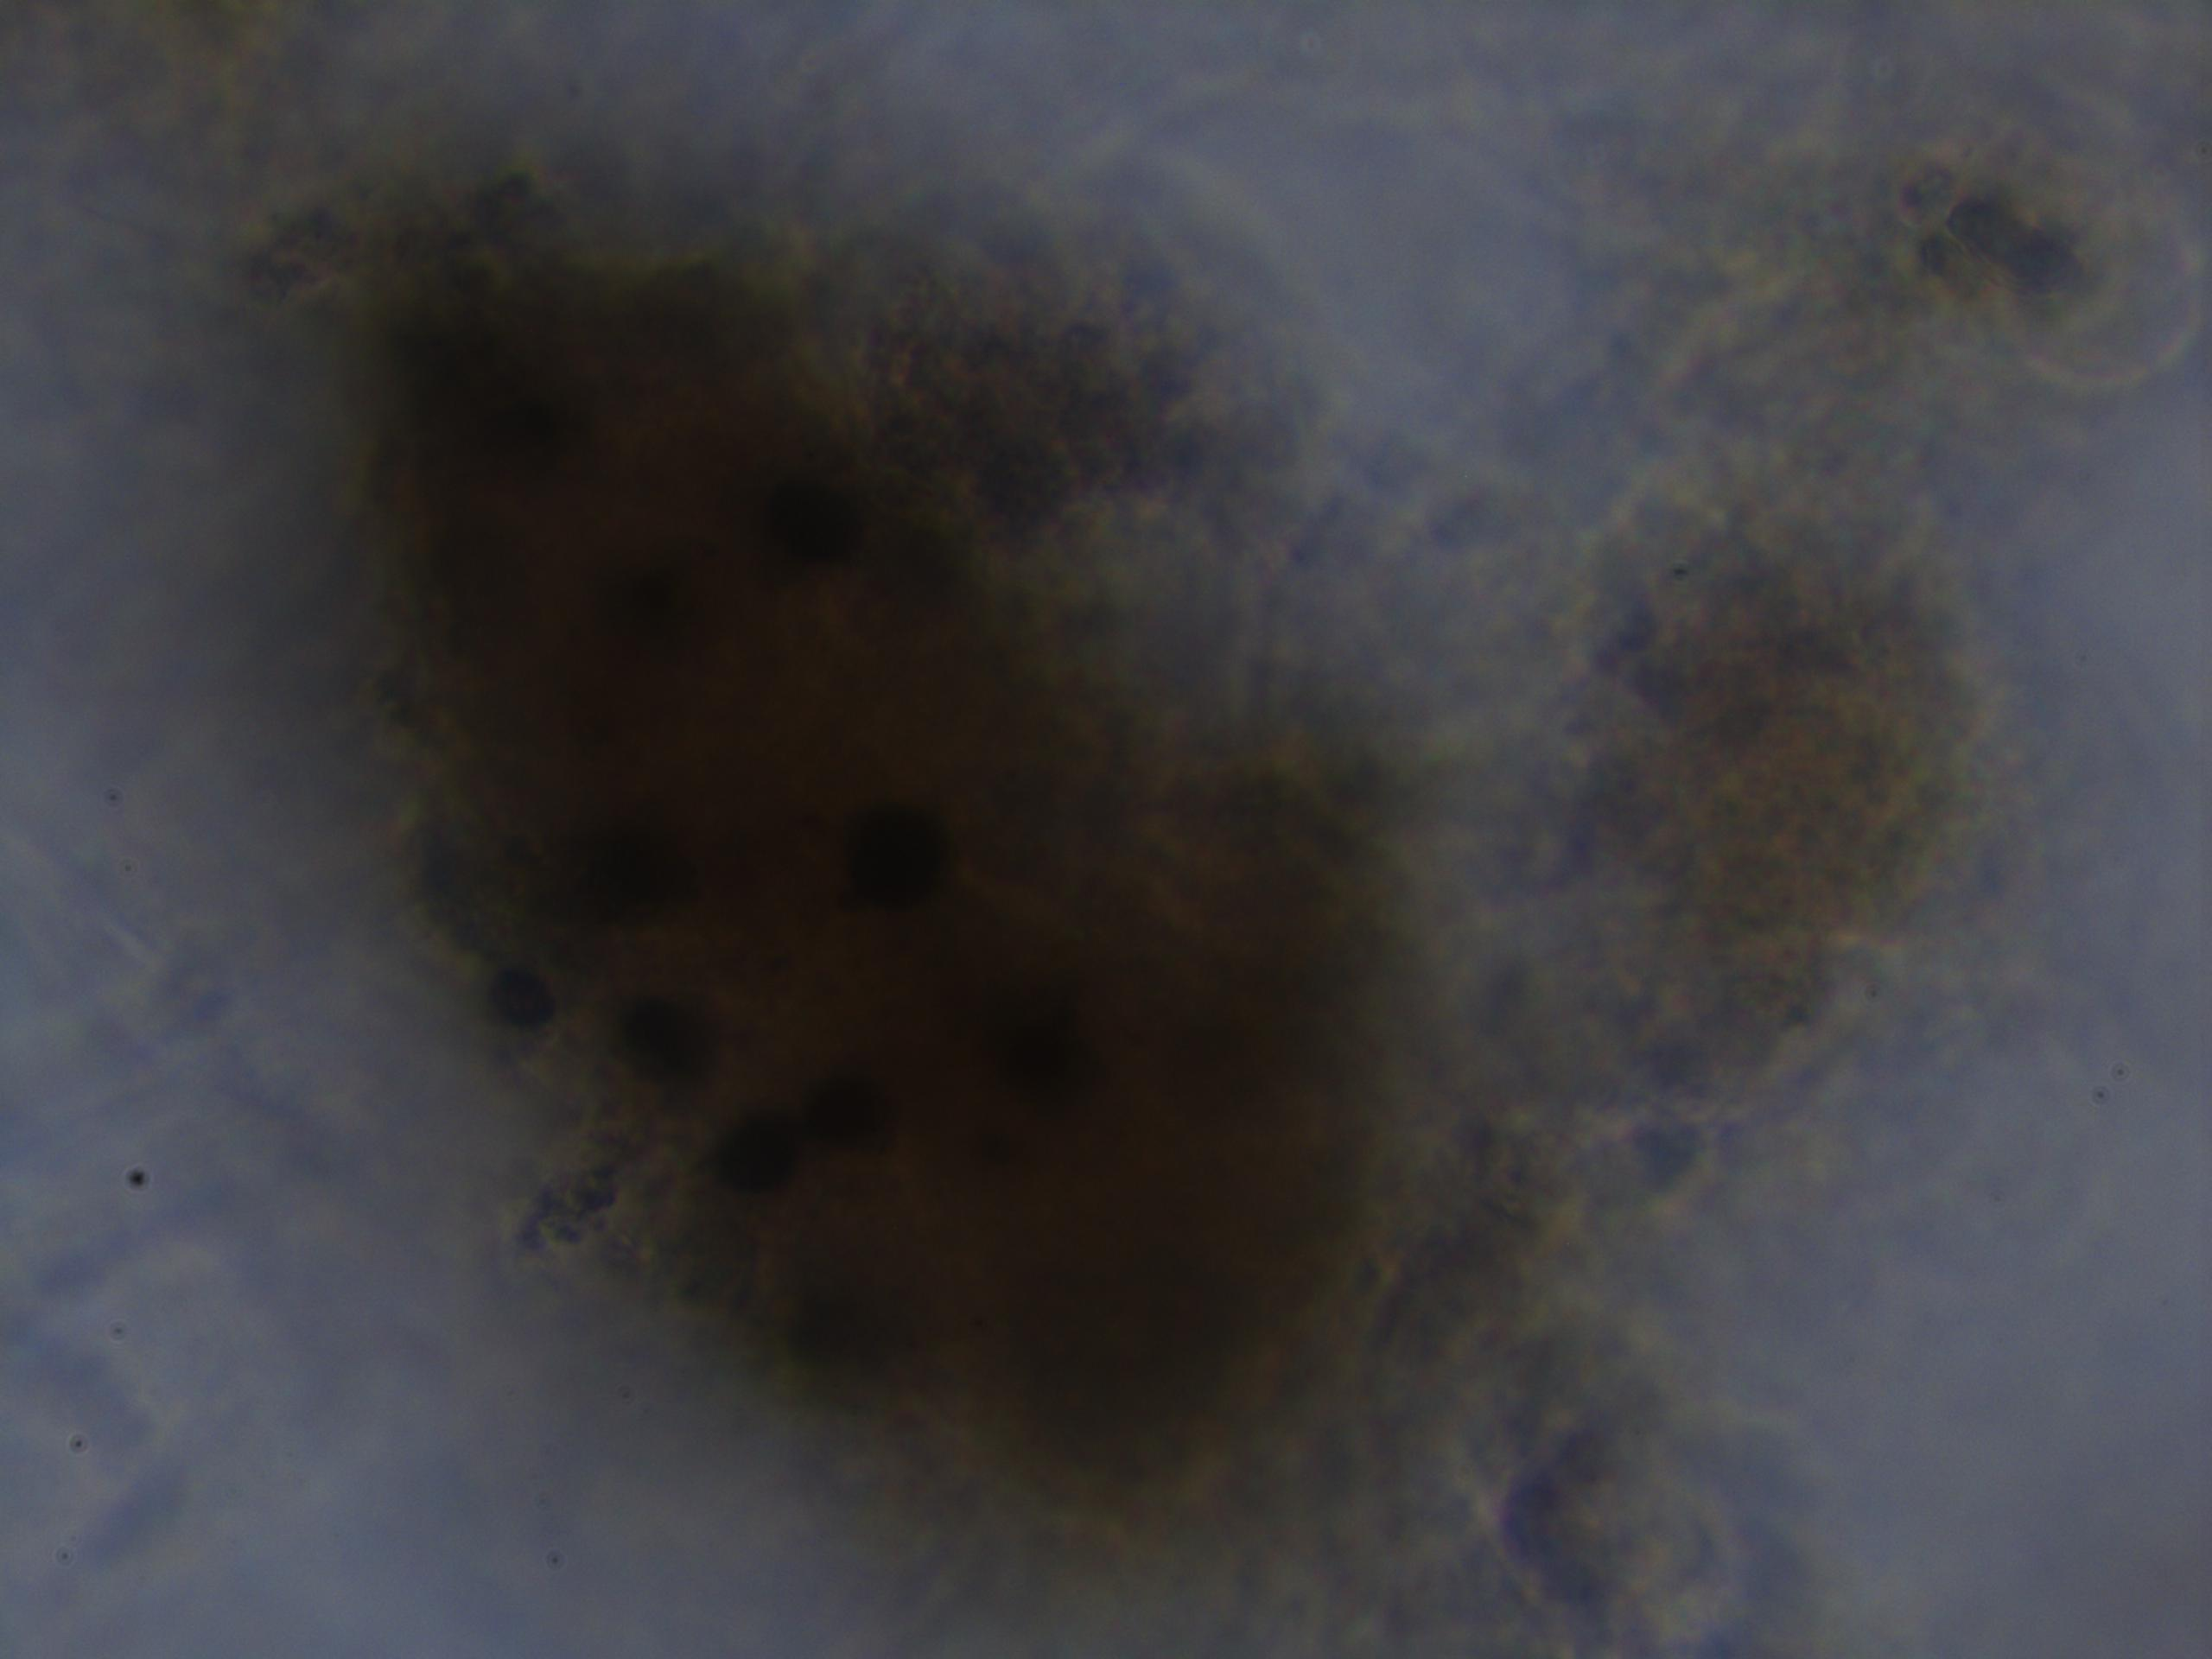spherical_floc: (273, 146, 1447, 1521)
